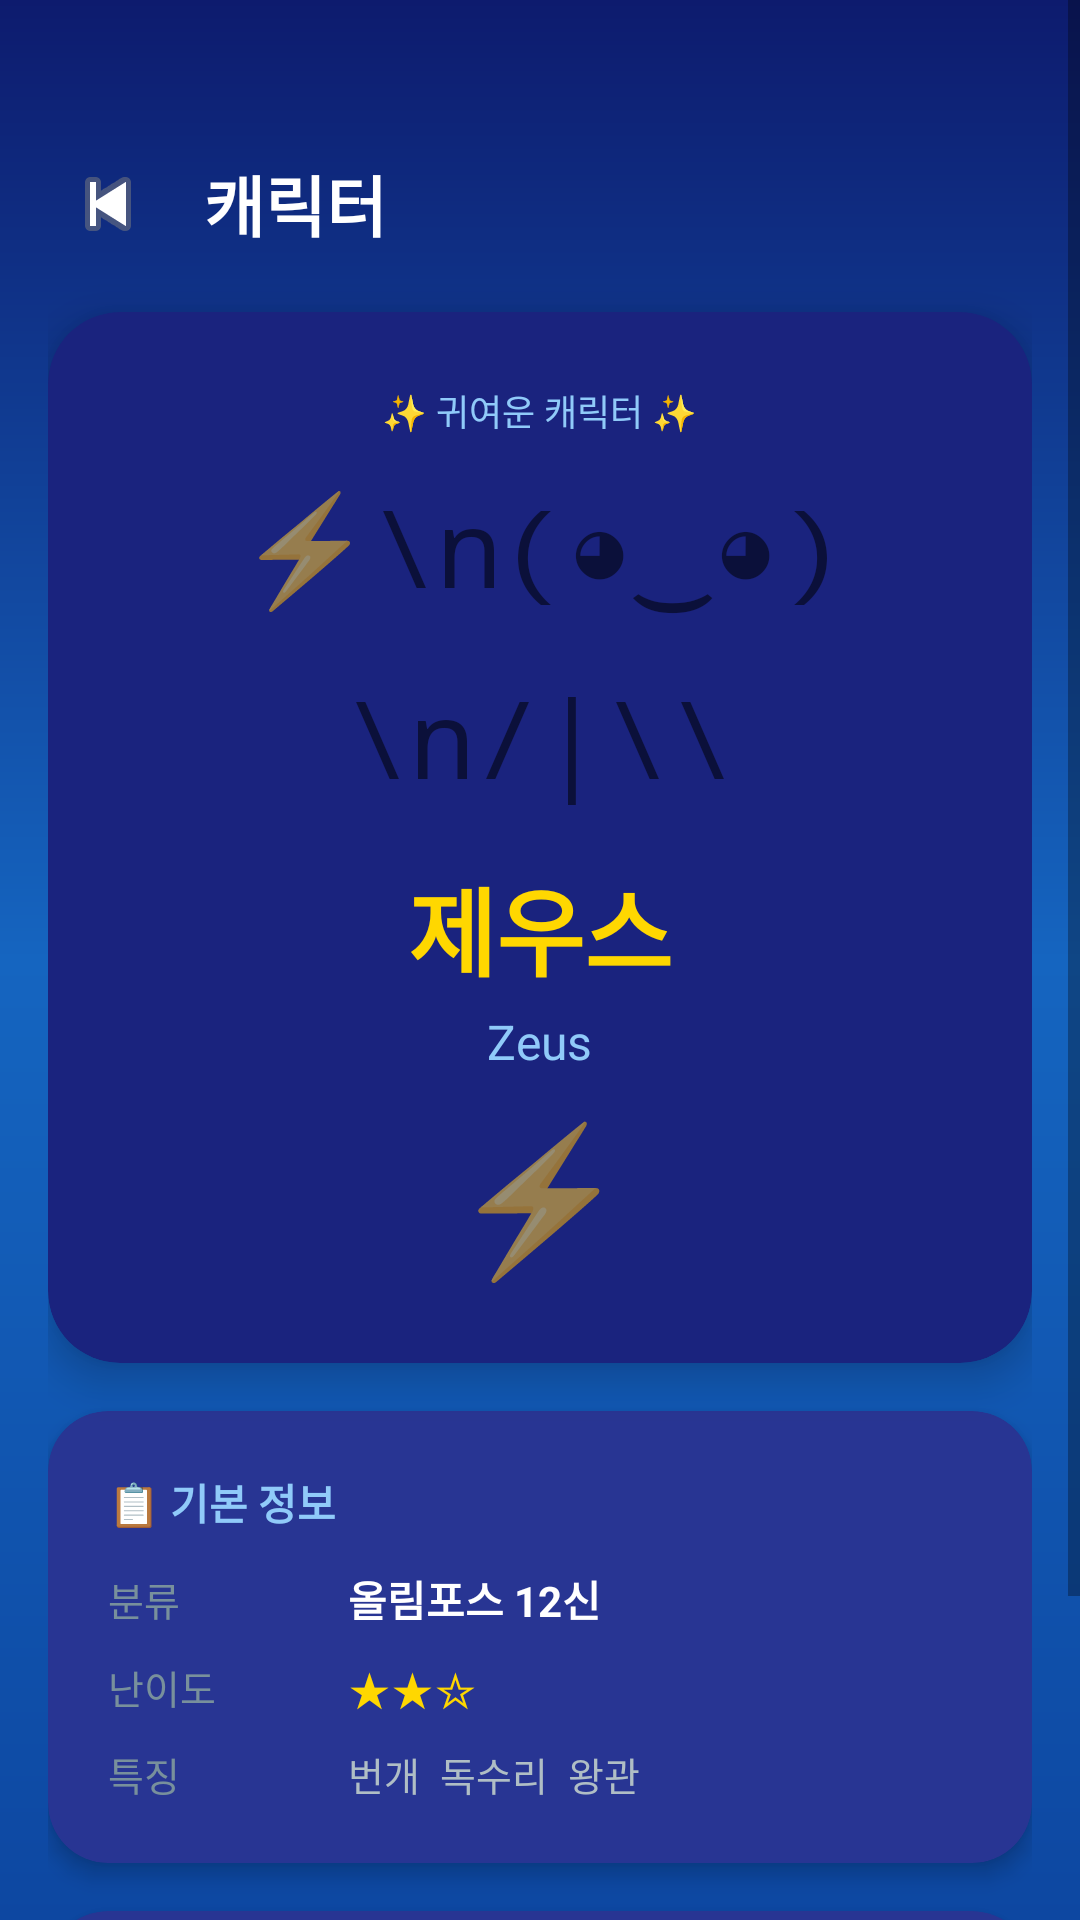

Locate icon controls on the screen. Image size 1080 × 1920, boxes as bbox=(x1, y1, x2, y2).
뒤로: bbox=(85, 177, 131, 231)
